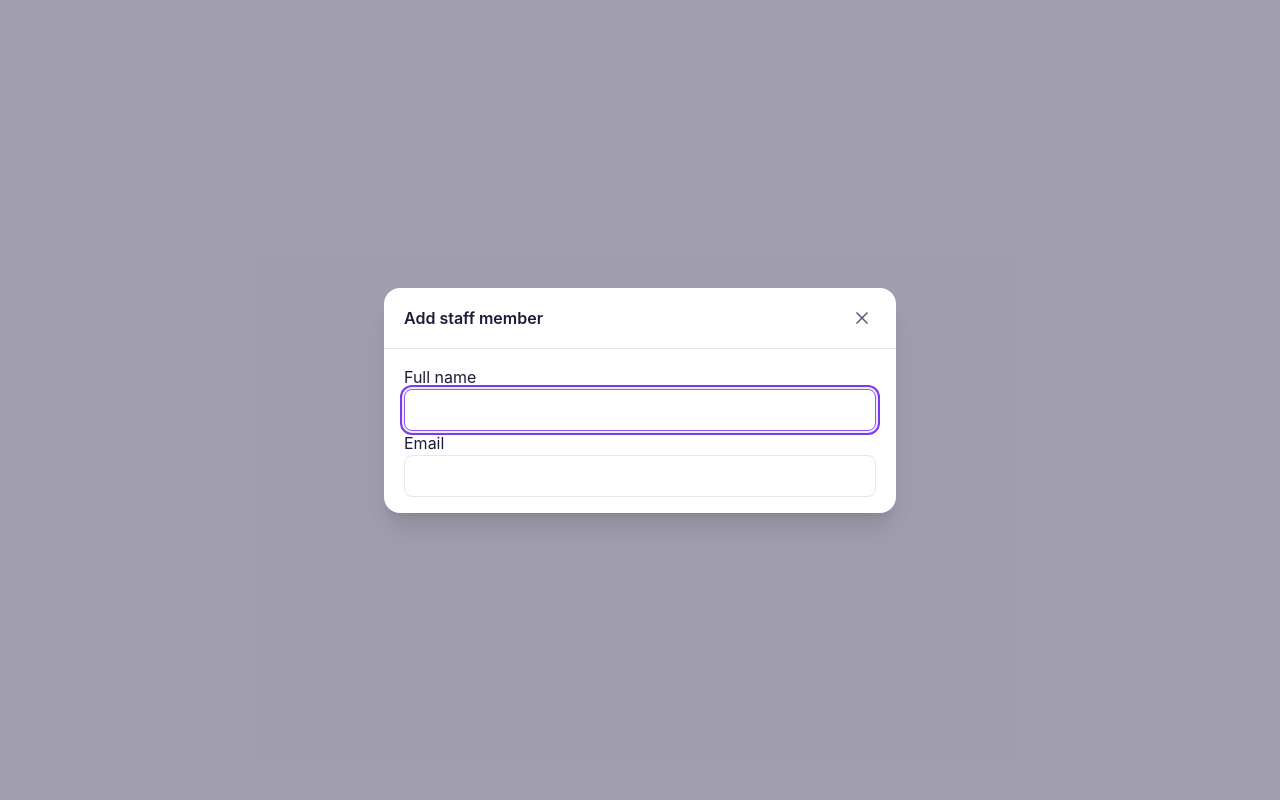
Scenario: Modal › keeps focus when typing into a field clicked by the user
The width and height of the screenshot is (1280, 800).
Click the field labelled "Email".
click(640, 476)  # box [404,454,876,496]
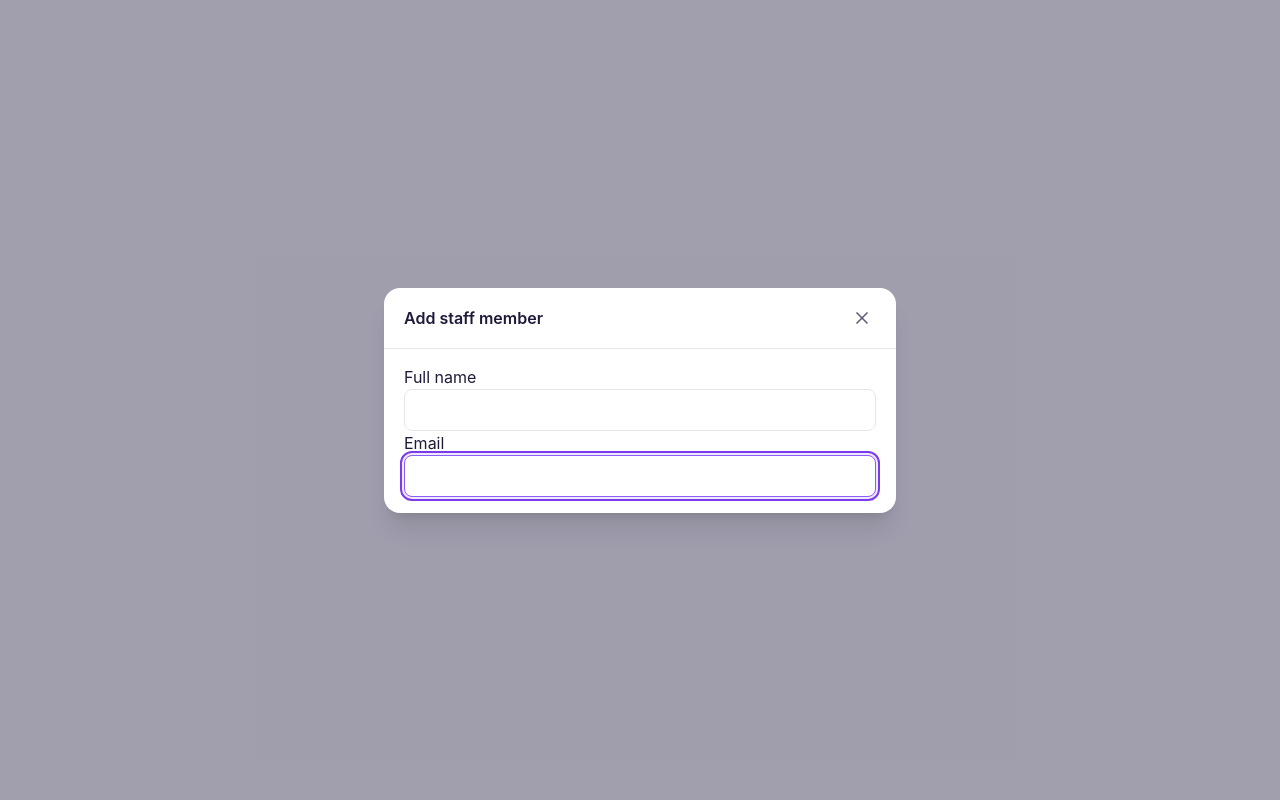
Type keys "waiter@example.com"
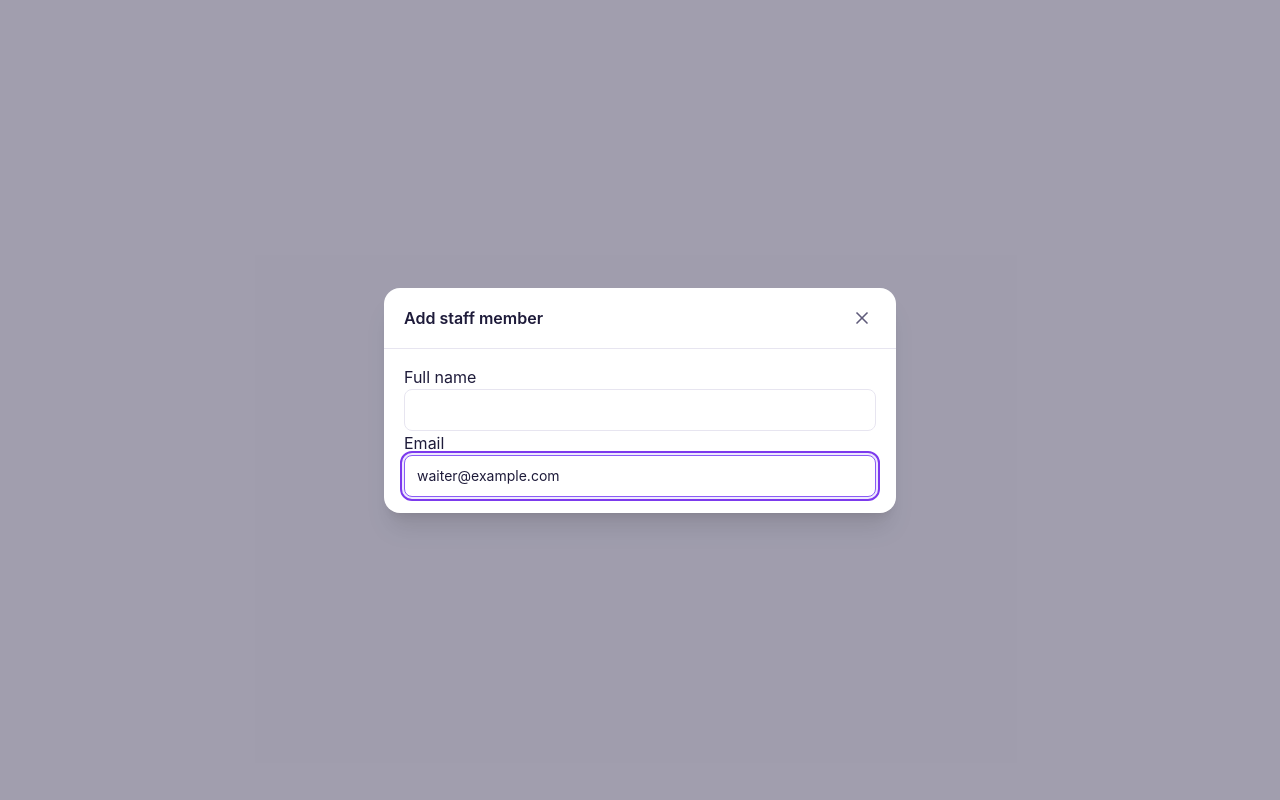
Check: the field labelled "Email" holds "waiter@example.com", box [404,454,876,496]
